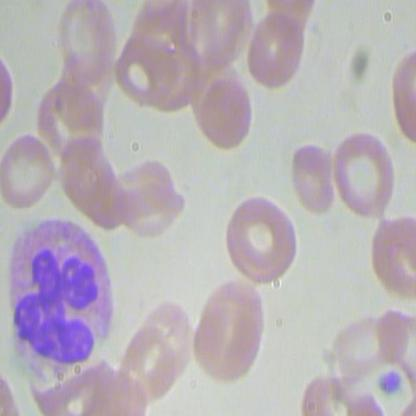Platelets: (376, 367, 405, 395)
RBC: (186, 294, 264, 386), (224, 190, 297, 284), (330, 128, 404, 220), (34, 76, 106, 157), (54, 1, 118, 86), (113, 183, 187, 245), (247, 11, 303, 90), (289, 126, 334, 224), (197, 76, 253, 154), (1, 134, 56, 212), (366, 218, 415, 304), (202, 280, 266, 341)
WBC: (2, 214, 122, 381)
